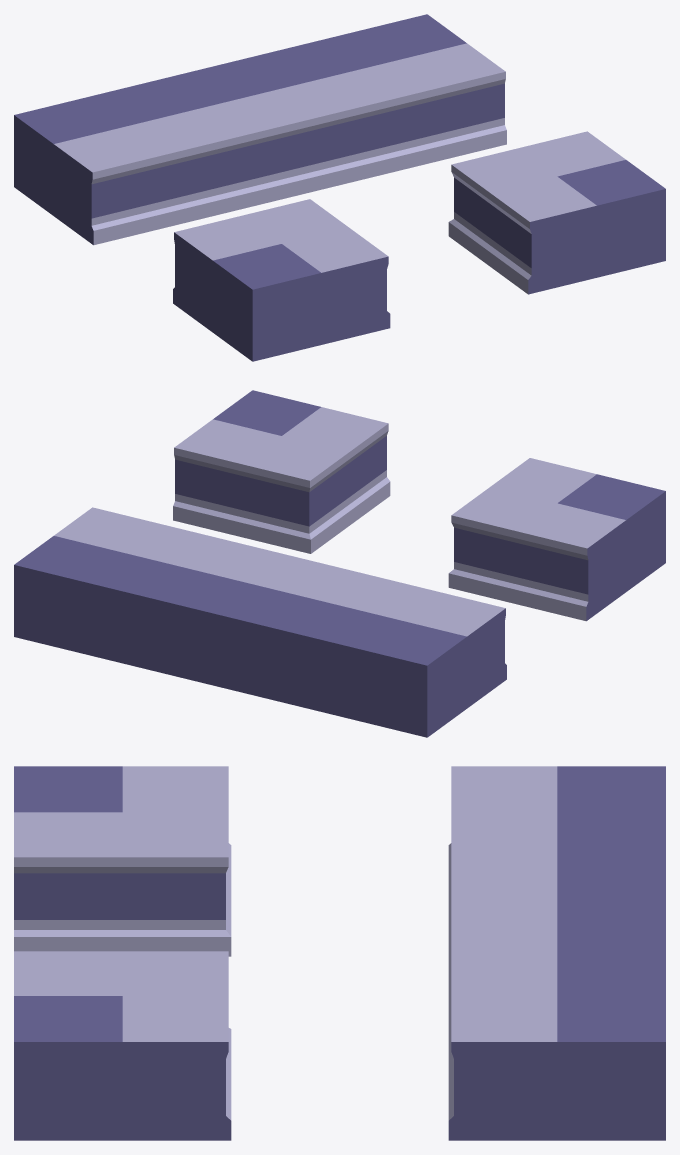
Rendered from 3way.glb.
3 views of the same model, one above another, from view 1: azimuth 30°, elevation 25°; view 2: azimuth 150°, elevation 25°; view 3: azimuth 270°, elevation 25° (orthographic). The views are drawn at different scales.
Parts seen in each view (by area): view 1: mergedBlocks(Clone); view 2: mergedBlocks(Clone); view 3: mergedBlocks(Clone).
Boxes of the visible parts, x1,y1,x2,y2 form: mergedBlocks(Clone): [14, 14, 665, 361]; mergedBlocks(Clone): [14, 390, 665, 737]; mergedBlocks(Clone): [14, 766, 665, 1140].
Size of the model in its own units: 6 by 1 by 6.
